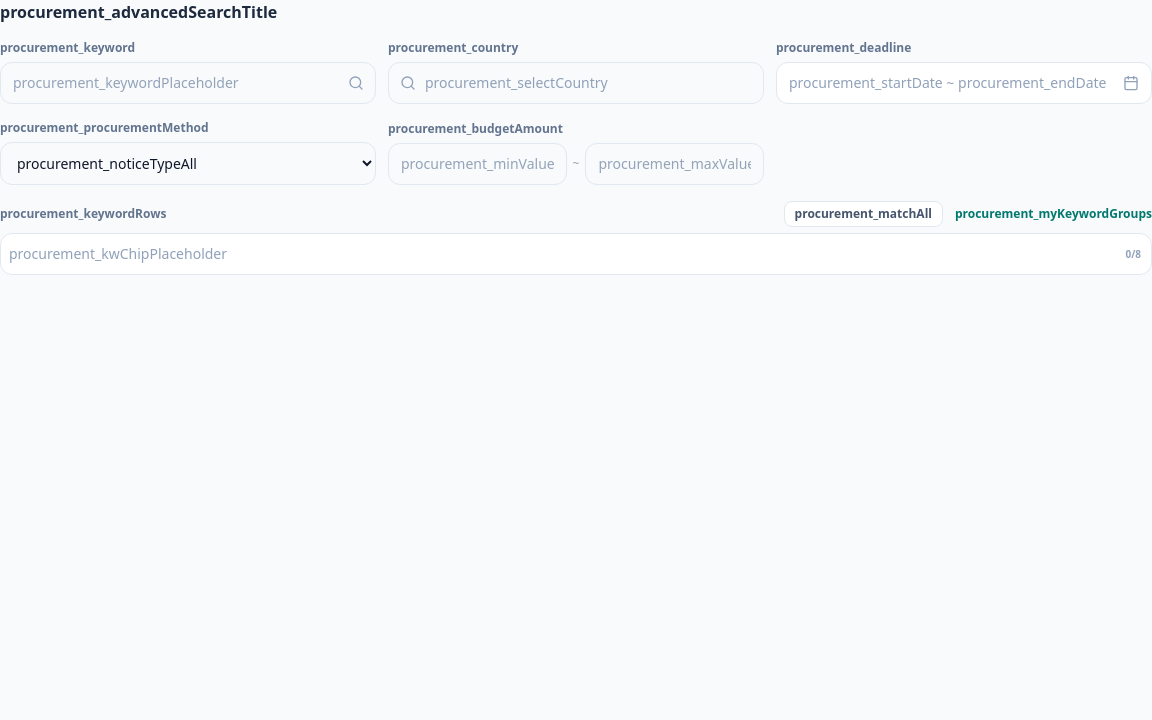
Test: 「我的词组」下拉加载 › TTL 内二次点开只发一次（我的+官方各一次），点开延迟根因
What coordinates should you click on to do the following:
click the button with test id "kw-group-picker"
I would click on:
 (1054, 214)
Its box is [955,206,1151,222].
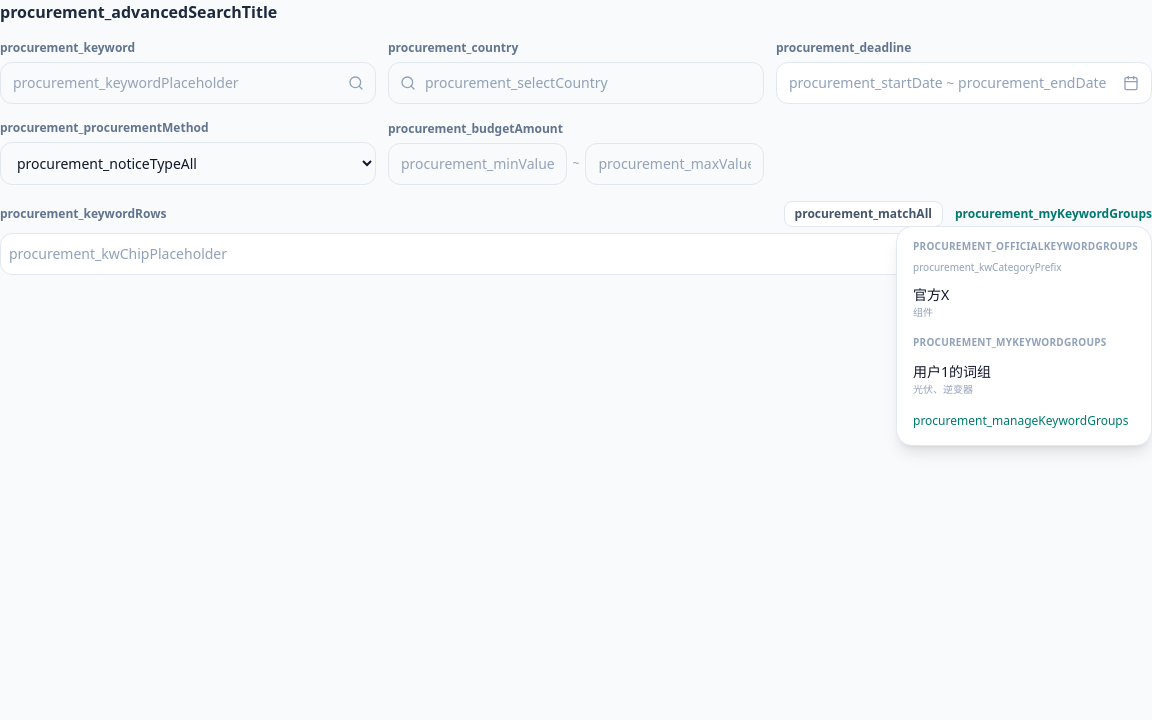
Result: the button "用户1的词组 光伏、逆变器" is shown at [905,354,1143,405]
What coordinates should you click on to do the following:
click the button with test id "kw-group-picker"
I would click on:
 (1054, 214)
Its box is [955,206,1151,222].
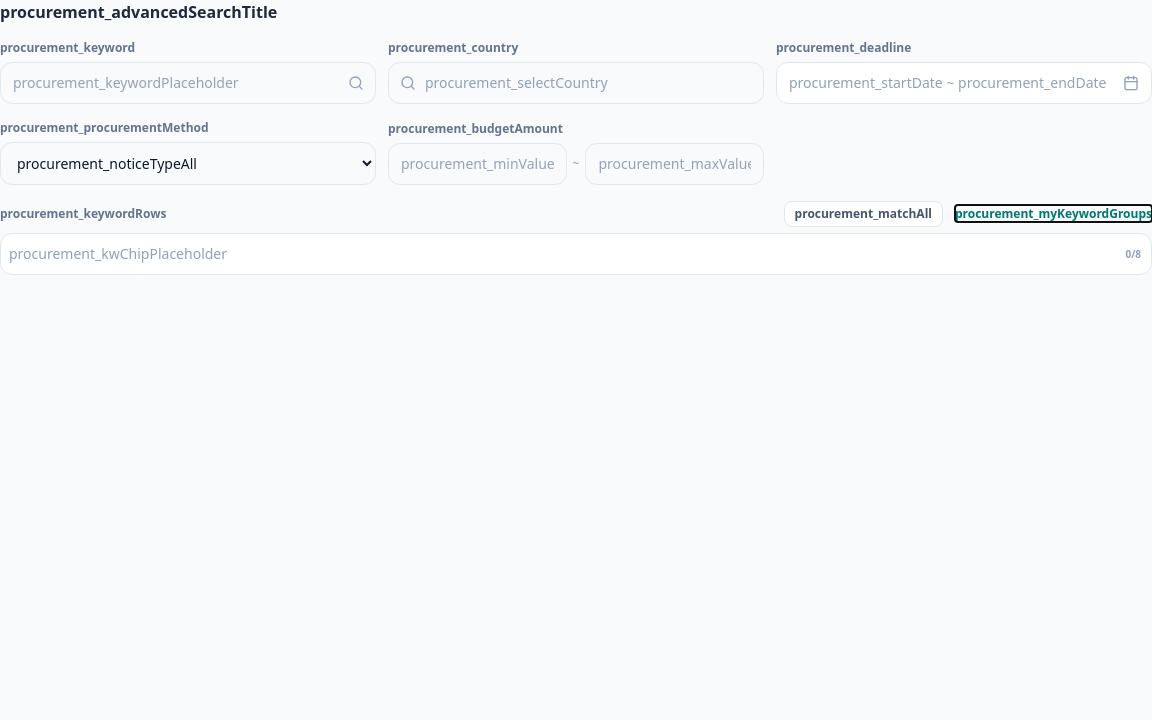
Result: the button "用户1的词组" is gone
What coordinates should you click on to do the following:
click the button with test id "kw-group-picker"
I would click on:
 (1054, 214)
Its box is [955,206,1151,222].
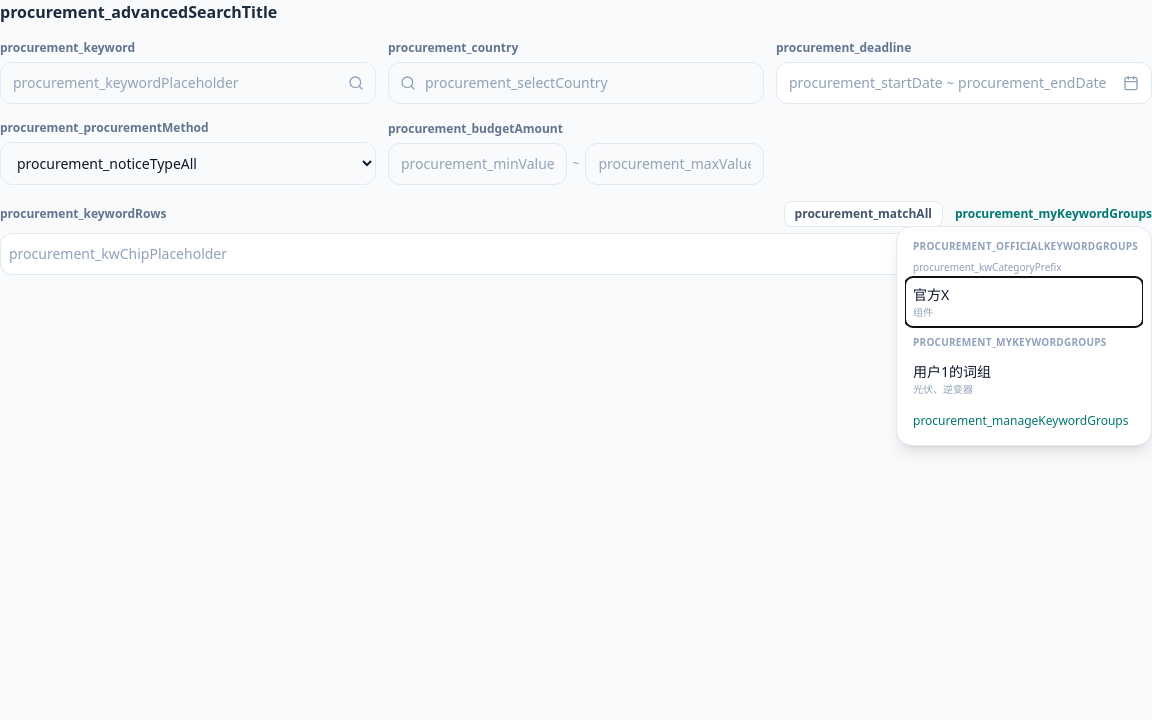
Result: the button "用户1的词组 光伏、逆变器" is shown at [905,354,1143,405]
